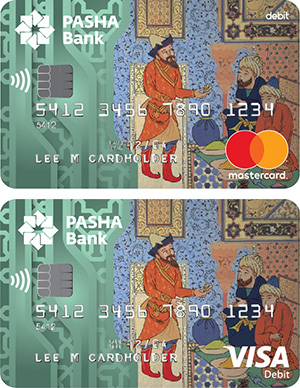Pasha Bank: (13, 7, 57, 51), (16, 209, 59, 251)
